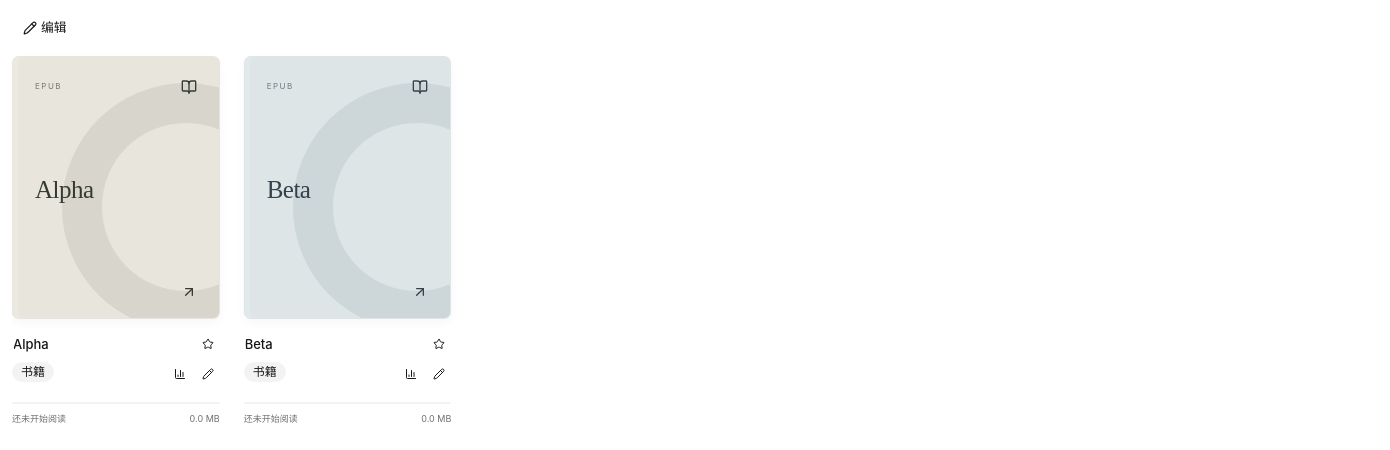
Test: requires edit mode before selecting and clears selection on exit
Press a in the element showing "EPUB Alpha Alpha 书籍 还未开始阅读 0.0 MB", box [12,56,220,426]
Expected: the text "已选" is not shown
Click the button "编辑": {"x": 45, "y": 28} [12,14,78,42]
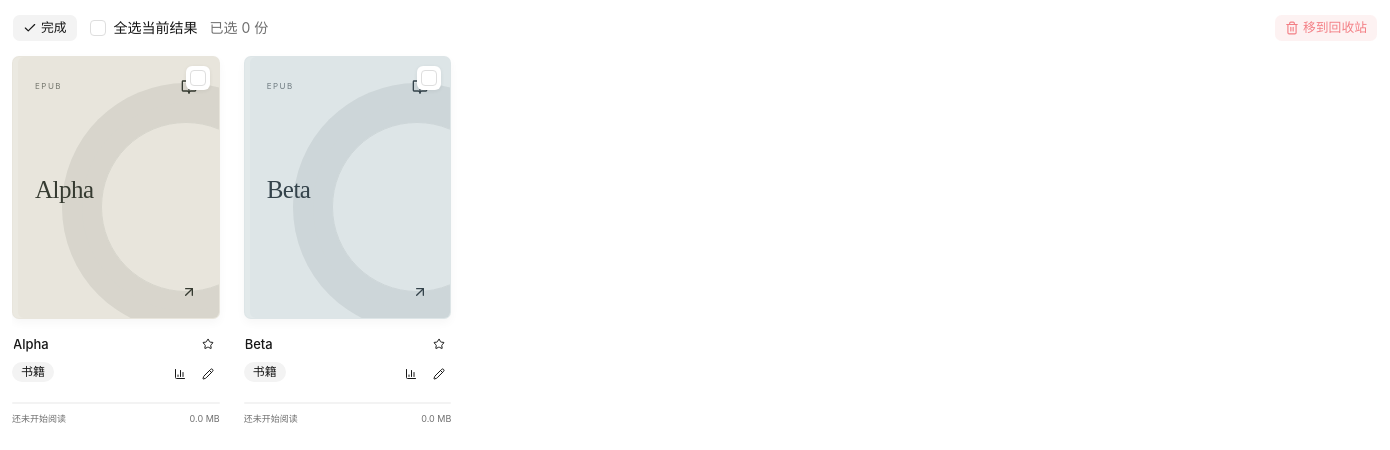
Press a in the element showing "EPUB Alpha Alpha 书籍 还未开始阅读 0.0 MB", box [12,56,220,426]
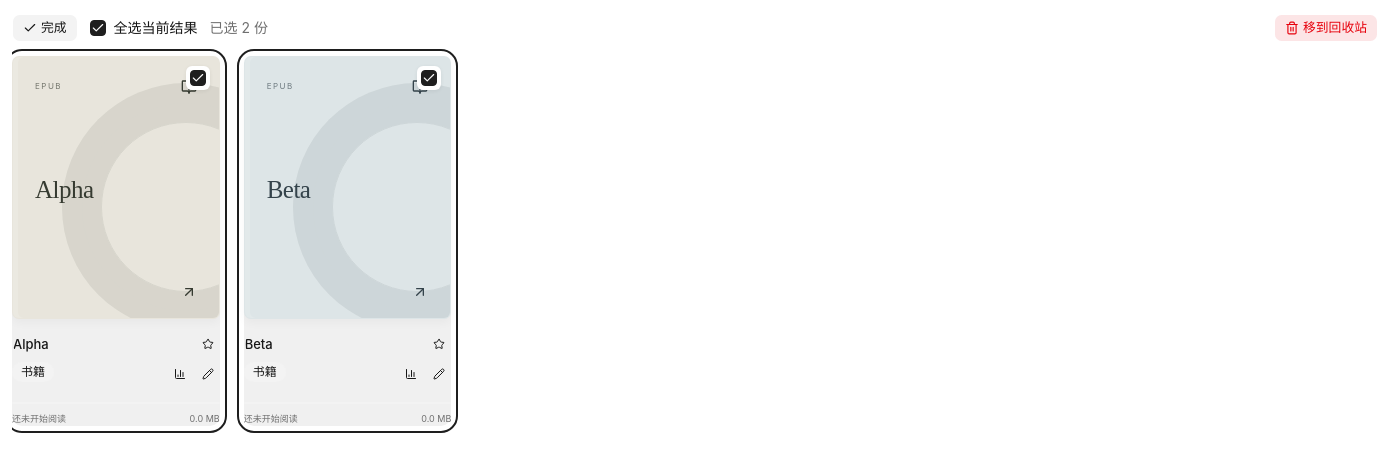
Now the text "已选 2 份" is shown, box [210,18,268,38]
Click the button "完成": {"x": 45, "y": 28} [12,14,78,42]
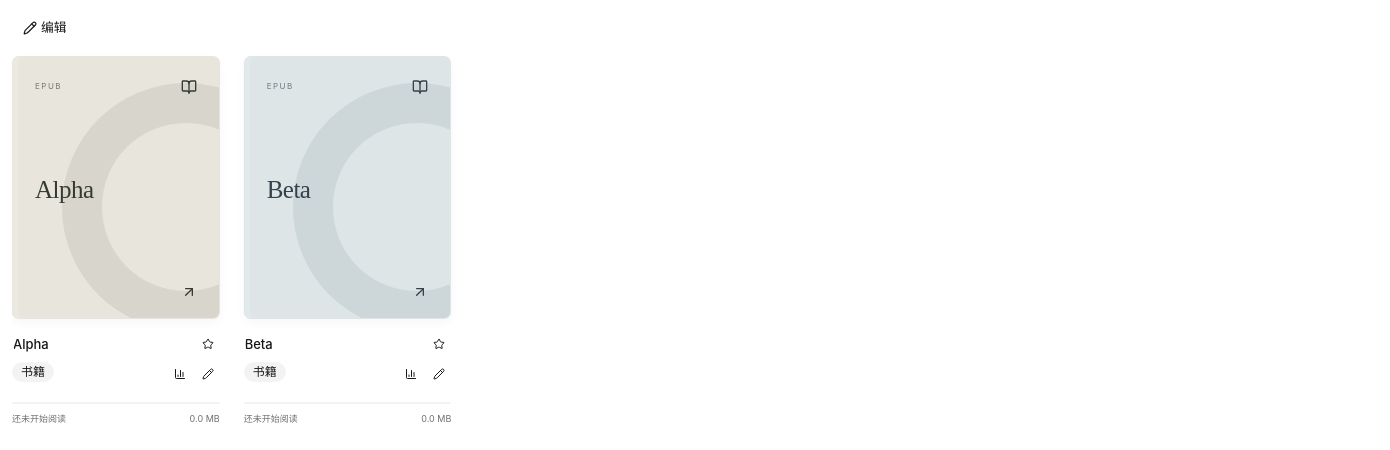
Now the checkbox is gone
Click the button "编辑": {"x": 45, "y": 28} [12,14,78,42]
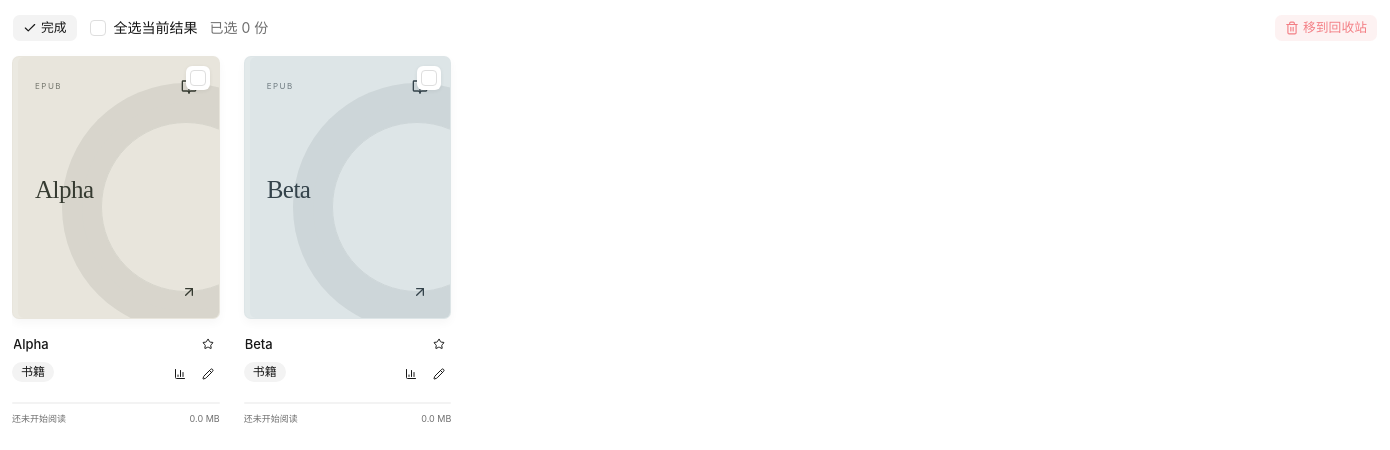
Now the text "已选 0 份" is shown, box [210,18,268,38]
